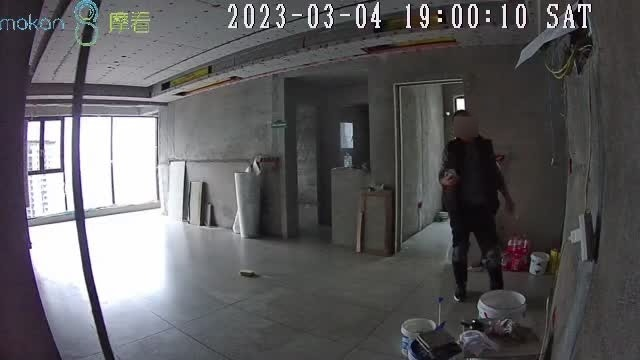people: (437, 109, 515, 299)
window: (25, 114, 160, 226)
